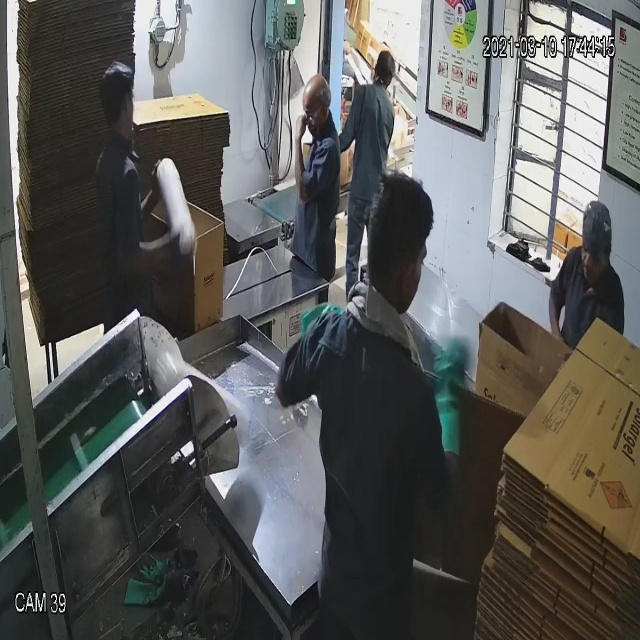Sin_guantes: (111, 213, 196, 276), (290, 106, 313, 217)
